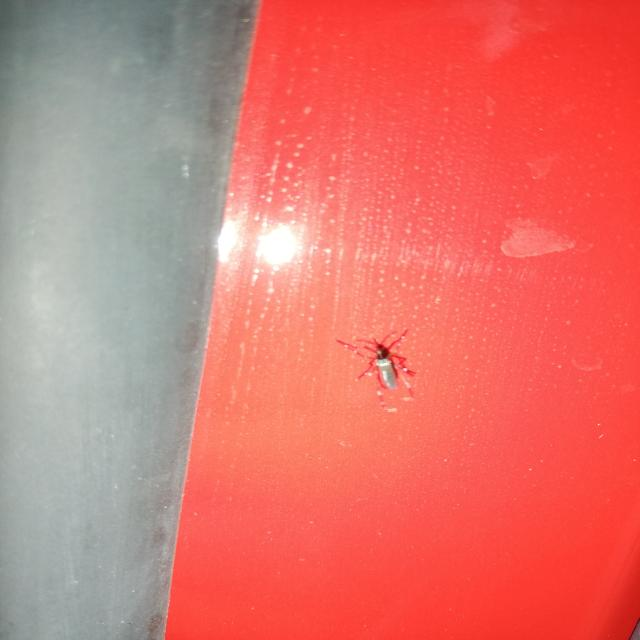albopictus: (328, 324, 429, 393)
